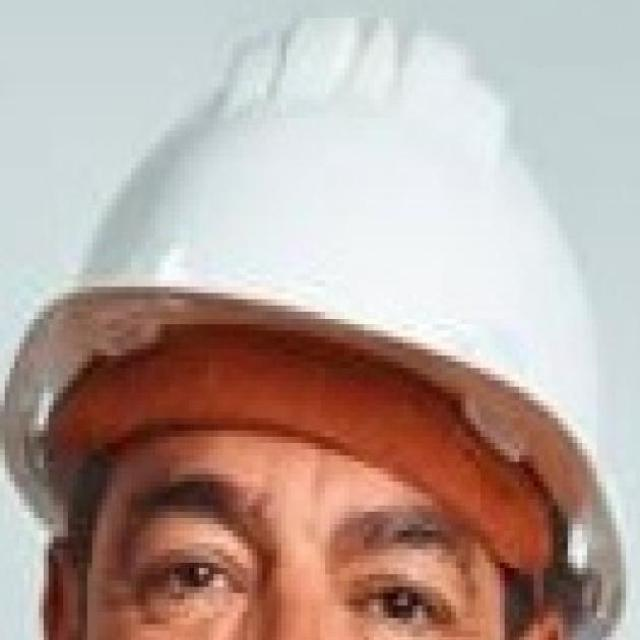white helmet: (18, 15, 626, 498)
